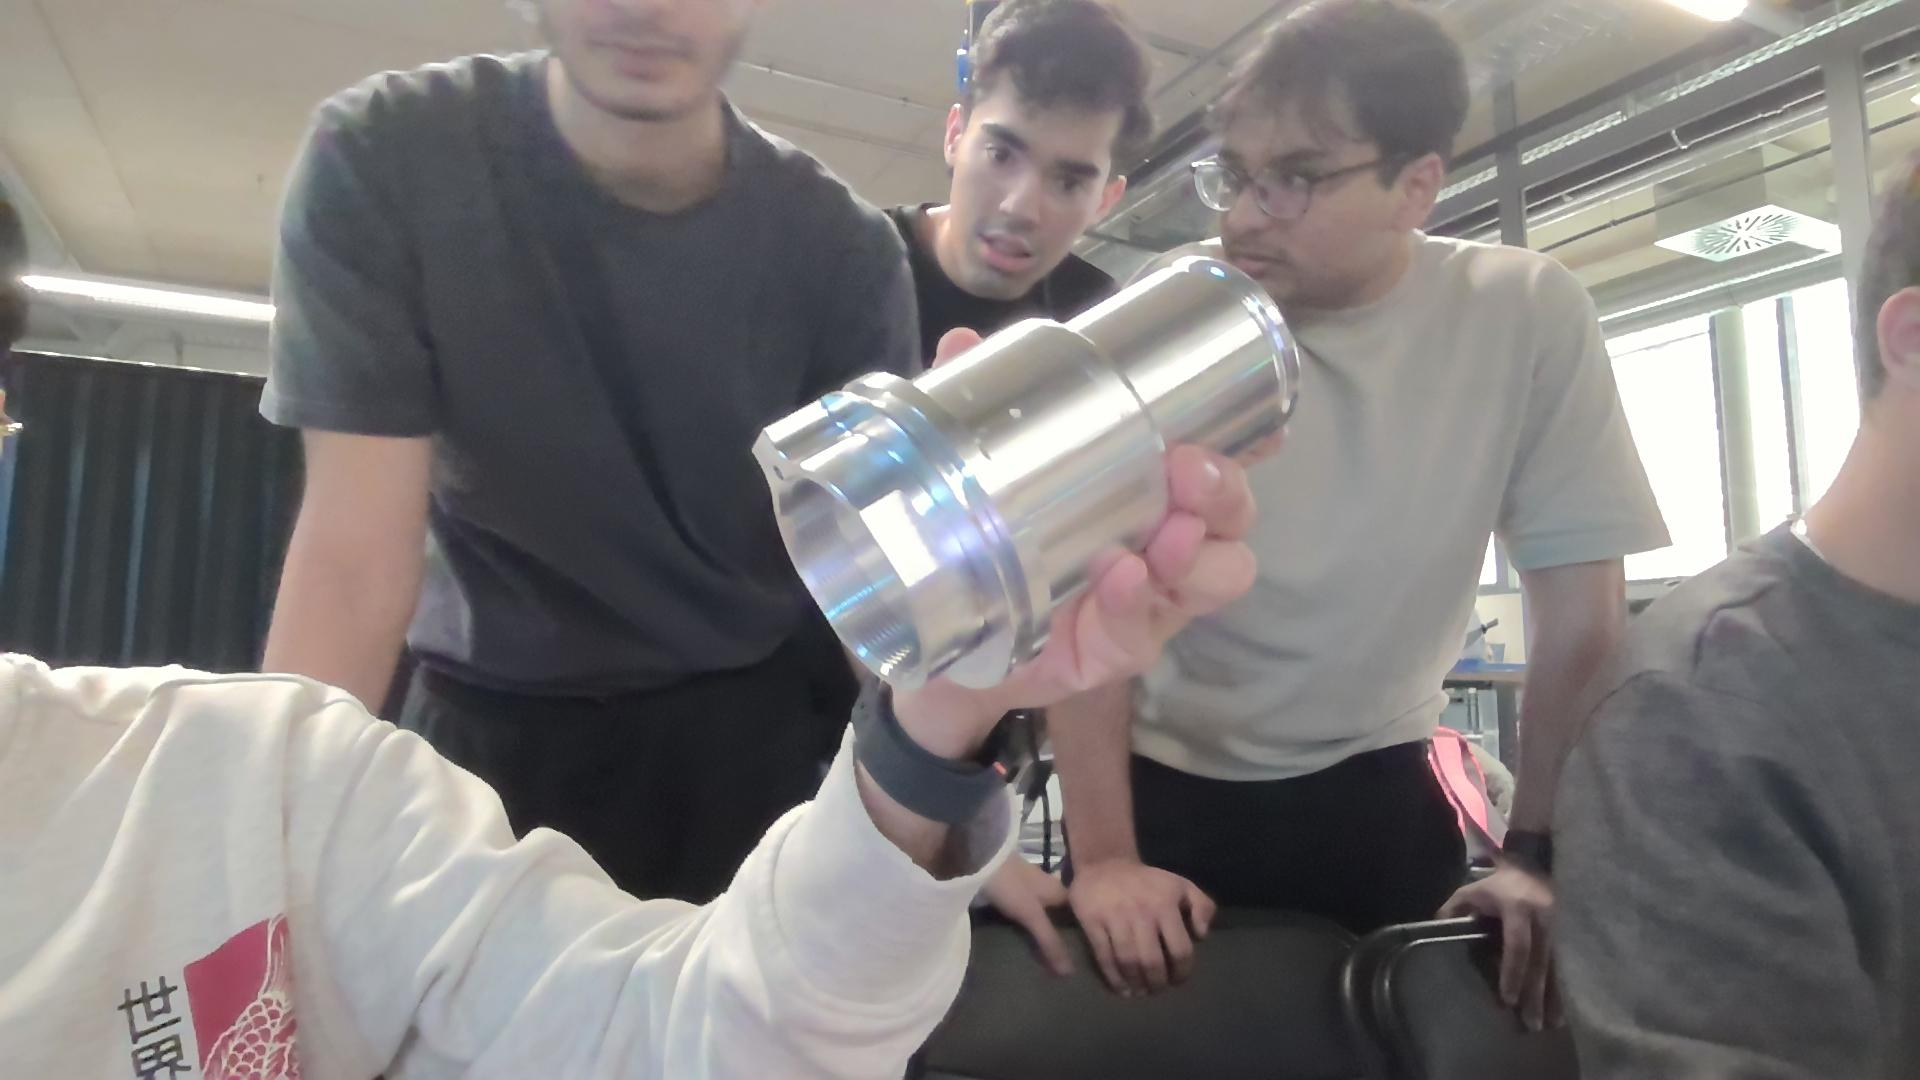damage: (973, 427, 997, 467), (956, 384, 982, 411), (1002, 401, 1029, 426)
objects: (748, 228, 1335, 709)
